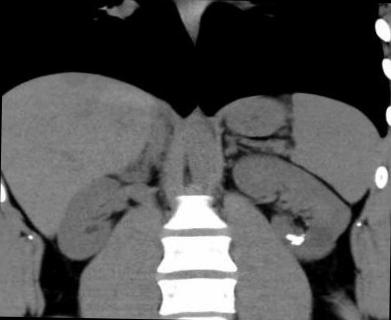Tas_Var: (284, 234, 310, 242), (287, 242, 306, 246), (300, 233, 304, 238)
